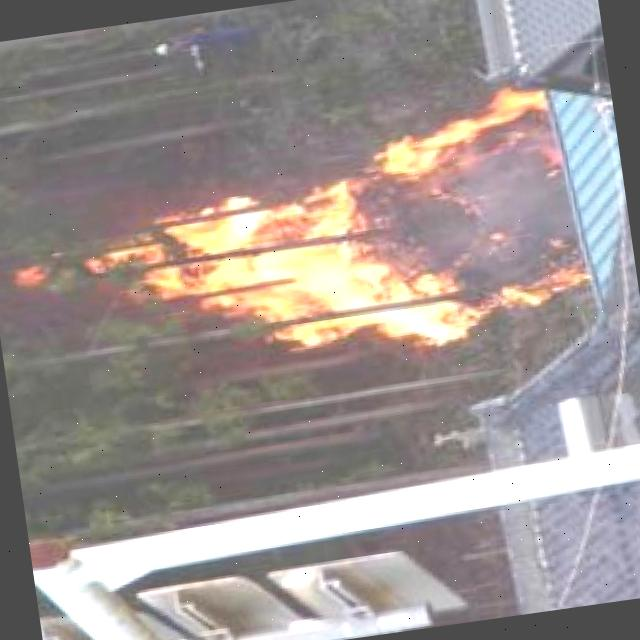fire: (113, 78, 583, 385)
